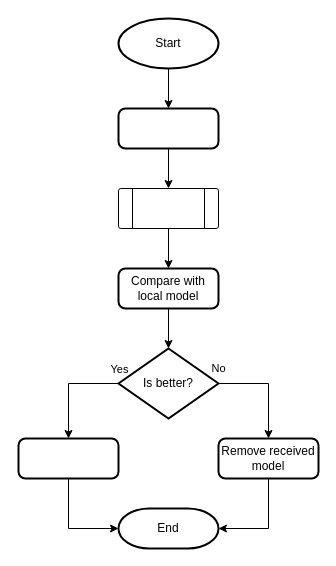
Some shapes in this 336 by 566 pixel diagram are drawn without their labels. Each missing label, with the centre of its shape:
Decrypt model: pixel 168 208
Receive retrain model: pixel 168 128
Replace local model: pixel 68 458
